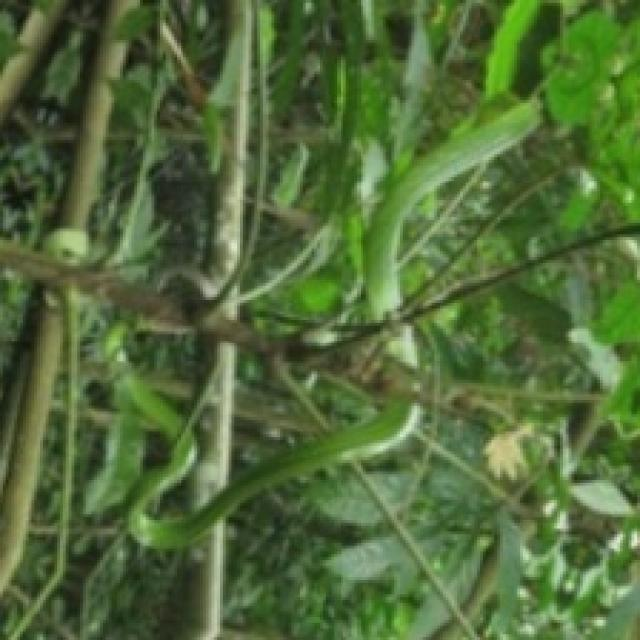red-tailed green ratsnake: (84, 101, 538, 549)
